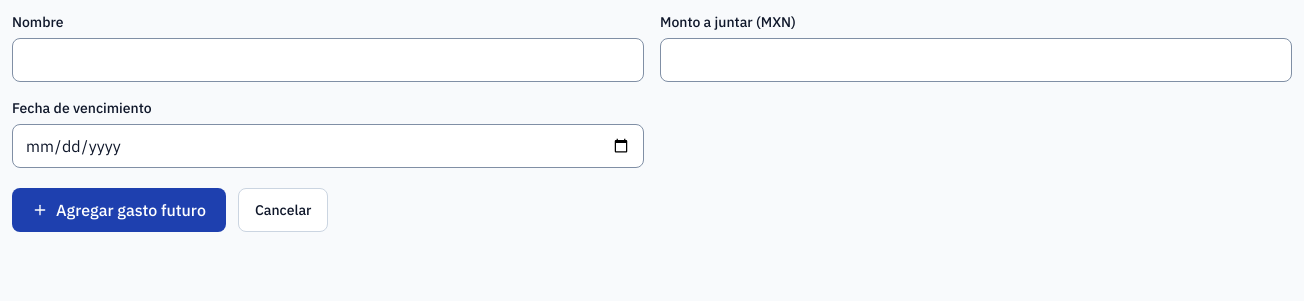
Test case: ItemForm › blocks an invalid form and focuses the first bad field
The width and height of the screenshot is (1304, 301).
Click the button "Agregar gasto futuro". click: (119, 210)
box: [12,188,226,232]
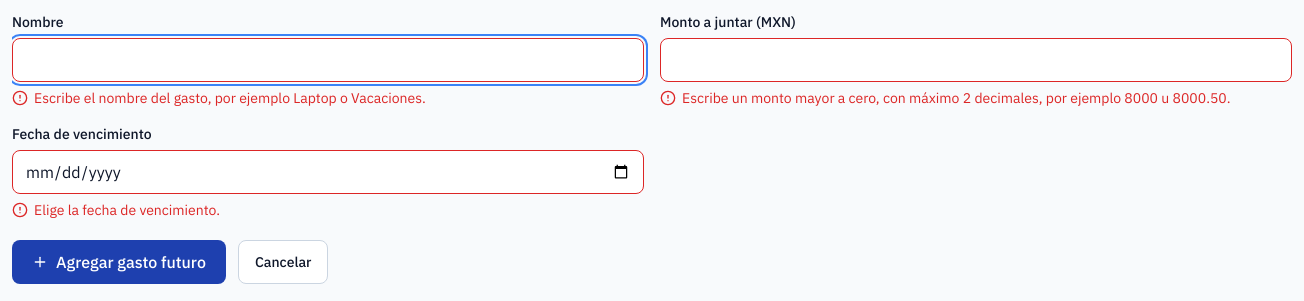
Now the number of messages is 3, box [12,89,426,107]; [660,88,1292,108]; [12,201,220,219]
